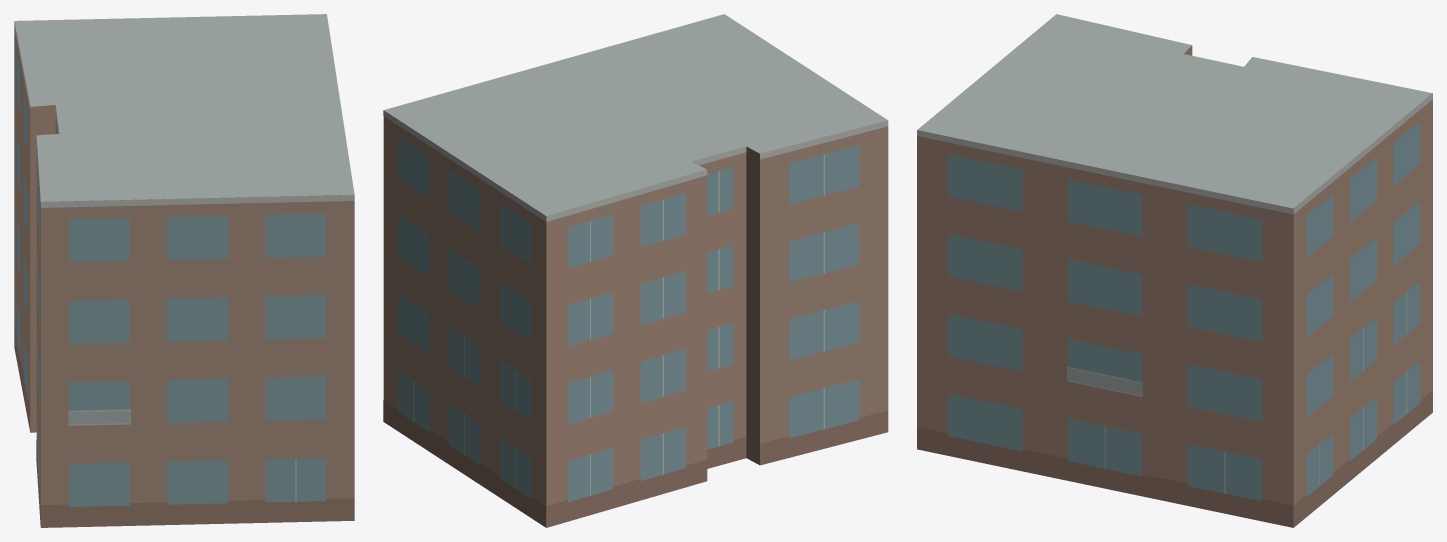
The model's file is survey-upis-32731112.glb.
3 views of the same model, side by side, from view 1: azimuth 30°, elevation 25°; view 2: azimuth 150°, elevation 25°; view 3: azimuth 270°, elevation 25° (orthographic). The views are drawn at different scales.
Visible parts, largest first — view 1: survey-upis-32731112.tmp; view 2: survey-upis-32731112.tmp; view 3: survey-upis-32731112.tmp.
Boxes of the visible parts, <box> form: survey-upis-32731112.tmp: <box>14,14,354,527</box>; survey-upis-32731112.tmp: <box>383,14,888,527</box>; survey-upis-32731112.tmp: <box>917,14,1432,527</box>.
Bounding box in the file's own units: 17 × 13 × 19.04.
